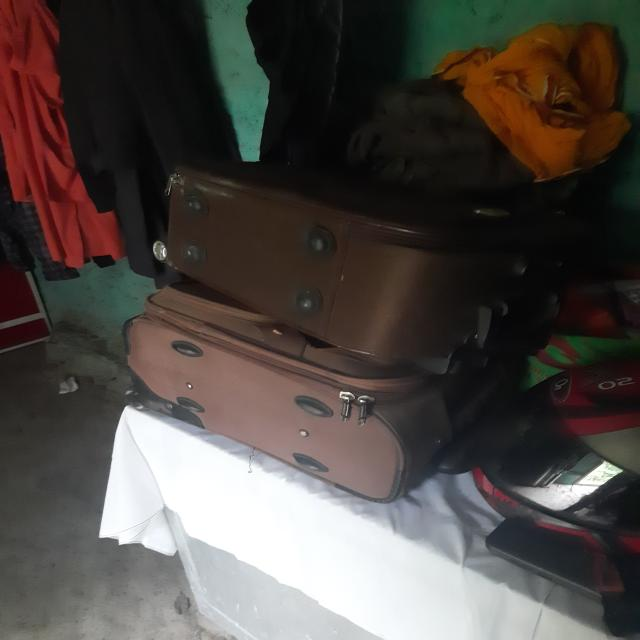suitcaserotation: (147, 148, 579, 380), (115, 277, 528, 507)
